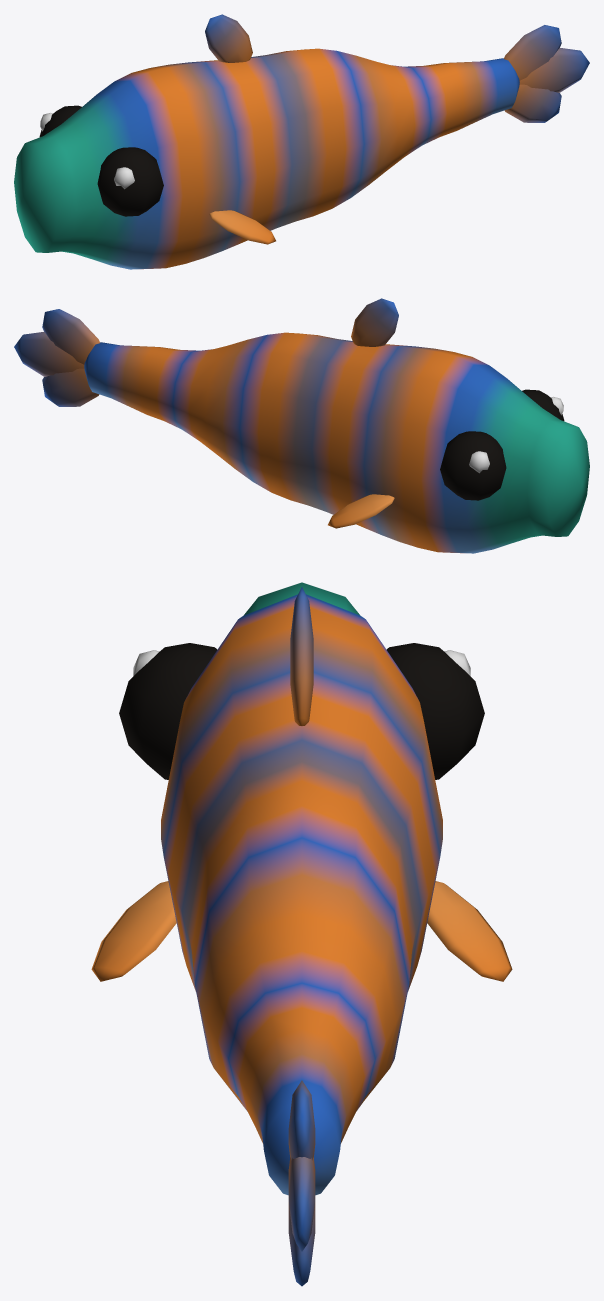
File: Mandarin_Fish.glb
3 views of the same model, one above another, from view 1: azimuth 30°, elevation 25°; view 2: azimuth 150°, elevation 25°; view 3: azimuth 270°, elevation 25° (orthographic). The views are drawn at different scales.
Visible parts, largest first — view 1: MandarinFish; view 2: MandarinFish; view 3: MandarinFish.
Boxes of the visible parts, x1,y1,x2,y2 form: MandarinFish: (14, 14, 589, 269); MandarinFish: (14, 298, 589, 553); MandarinFish: (91, 582, 512, 1286).
Bounding box in the file's own units: 0.89 × 0.3541 × 0.2854.
